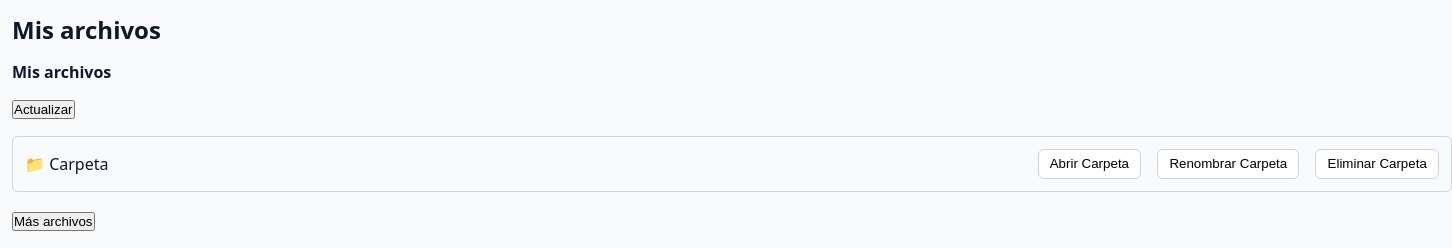
Test: listado y descarga en React › descarta una página tardía al navegar
Later steps or results of the test are not shown.
Expected: the button "Abrir Carpeta" is shown, [1038,149,1141,179]
Step 1. Click the button "Más archivos" → [53, 221], box [12,212,94,231]
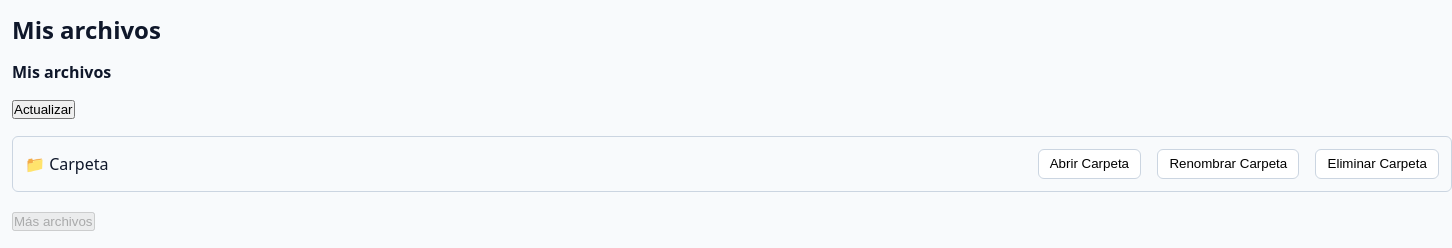
Step 2. Click the button "Abrir Carpeta" → [1089, 164], box [1038,149,1141,179]
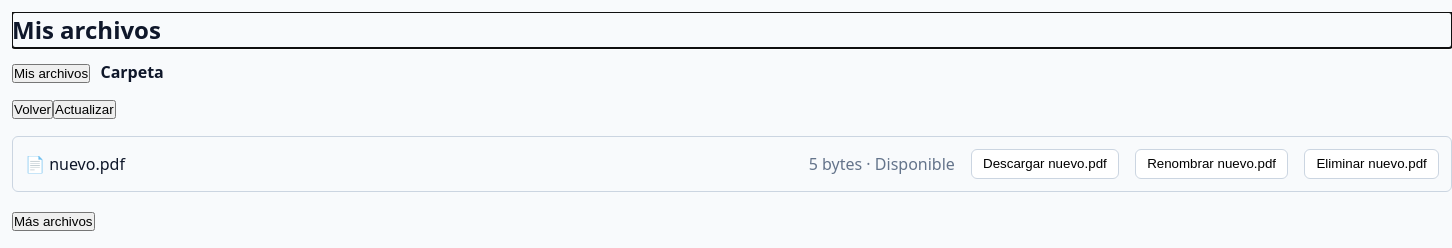
Now the button "Descargar nuevo.pdf" is shown, box [971,149,1119,179]
